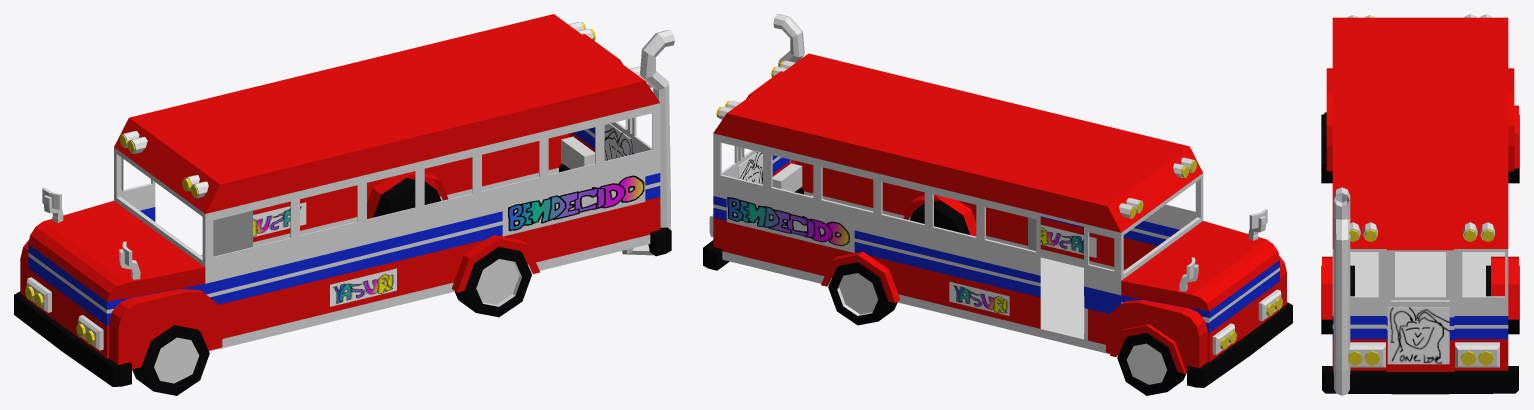
File: bus35.fbx
3 renders of one model, left to right at view 1: azimuth 30°, elevation 25°; view 2: azimuth 150°, elevation 25°; view 3: azimuth 270°, elevation 25°, orthographic. The views are drawn at different scales.
Visible parts, largest first — view 1: Cube.010, Cube.004, Cube.003, Cube.002; view 2: Cube.010, Cube.001, Cube.002, Cube.003; view 3: Cube.010, Cube.004, Cube.002, Cube.003, Cube.001.
Boxes of the visible parts, x1,y1,x2,y2 form: Cube.010: (14, 14, 674, 386); Cube.004: (132, 325, 209, 395); Cube.003: (455, 247, 531, 317); Cube.002: (373, 178, 441, 217); Cube.010: (703, 14, 1292, 387); Cube.001: (1117, 333, 1186, 395); Cube.002: (828, 262, 897, 325); Cube.003: (910, 200, 970, 234); Cube.010: (1322, 14, 1518, 395); Cube.004: (1321, 114, 1332, 183); Cube.002: (1486, 265, 1519, 334); Cube.003: (1321, 265, 1354, 334); Cube.001: (1508, 114, 1519, 183).
Size of the model in its own units: 14.09 by 5.54 by 4.41.
10 materials, 3 textured.
